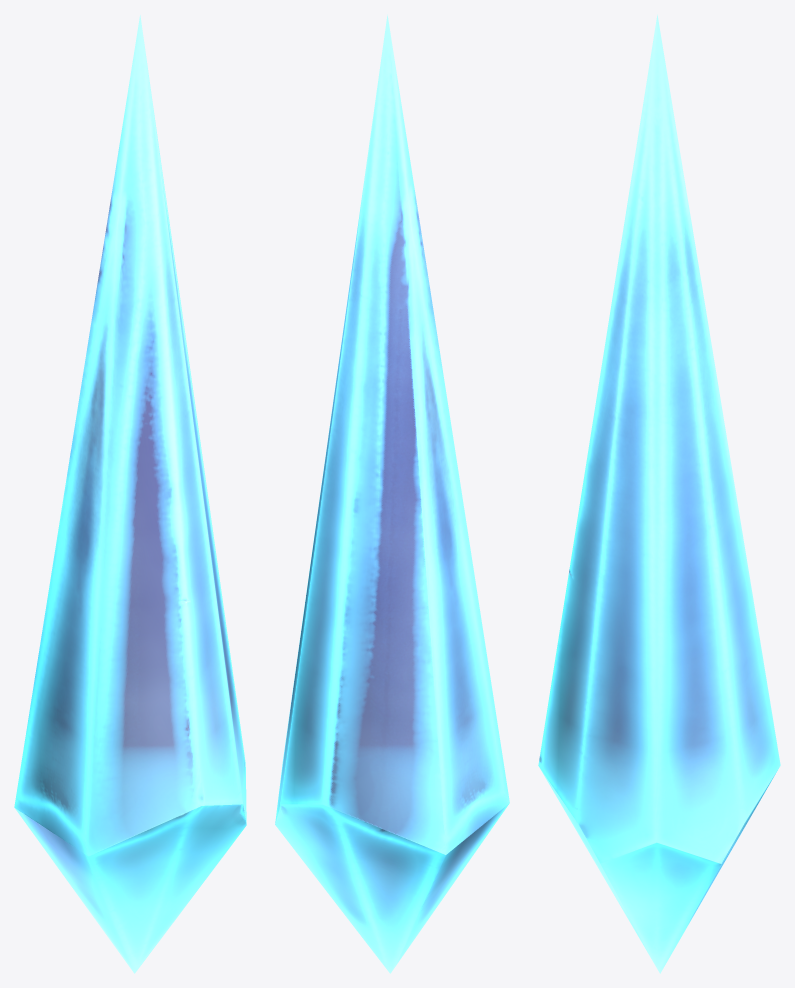
The model's file is crystal_sharp_single_blue.fbx.
The picture shows the model from 3 angles, left to right: view 1: azimuth 30°, elevation 25°; view 2: azimuth 150°, elevation 25°; view 3: azimuth 270°, elevation 25°; orthographic projection.
Visible parts, largest first — view 1: crystal_sharp_single_blue; view 2: crystal_sharp_single_blue; view 3: crystal_sharp_single_blue.
Part boxes in pixels (x1=…): crystal_sharp_single_blue: x1=14, y1=15, x2=246, y2=973; crystal_sharp_single_blue: x1=275, y1=14, x2=509, y2=973; crystal_sharp_single_blue: x1=538, y1=14, x2=780, y2=973.
Bounding box in the file's own units: 0.3176 × 1.48 × 0.3367.
